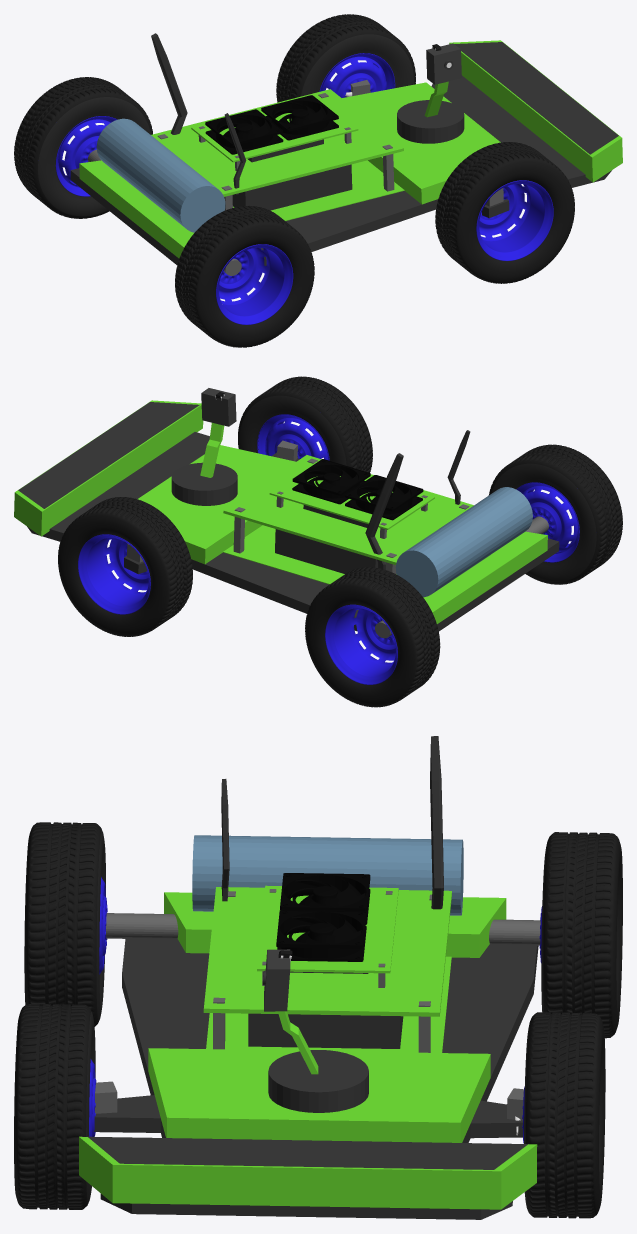
Rendered from car.glb.
3 renders of one model, top to bottom at view 1: azimuth 30°, elevation 25°; view 2: azimuth 150°, elevation 25°; view 3: azimuth 270°, elevation 25°, orthographic. The views are drawn at different scales.
Visible parts, largest first — view 1: Arctic P12 PWM 120x120x25mm, tire.004, tire.003, tire.002, tire.001, Cylinder.002, Plane.003; view 2: Arctic P12 PWM 120x120x25mm, tire.002, tire.001, tire.004, tire.003, Cylinder.002, Plane.003, Cube.020, Cylinder.006; view 3: Arctic P12 PWM 120x120x25mm, tire.001, tire.003, tire.002, tire.004, Cylinder.002, Cylinder.006, Plane.003, Cube.020.
Boxes of the visible parts, x1,y1,x2,y2 form: Arctic P12 PWM 120x120x25mm: (70, 33, 622, 265); tire.004: (175, 205, 314, 347); tire.003: (435, 142, 574, 283); tire.002: (14, 77, 152, 218); tire.001: (276, 14, 415, 102); Cylinder.002: (397, 100, 464, 143); Plane.003: (426, 43, 461, 84); Arctic P12 PWM 120x120x25mm: (14, 400, 559, 631); tire.002: (305, 567, 440, 707); tire.001: (58, 497, 192, 636); tire.004: (488, 444, 622, 584); tire.003: (238, 376, 372, 472); Cylinder.002: (171, 462, 237, 505); Plane.003: (201, 388, 236, 426); Cube.020: (200, 422, 224, 477); Cylinder.006: (375, 516, 548, 638); Arctic P12 PWM 120x120x25mm: (79, 736, 538, 1219); tire.001: (522, 1012, 605, 1218); tire.003: (14, 1003, 96, 1209); tire.002: (539, 832, 622, 1038); tire.004: (24, 822, 107, 1026); Cylinder.002: (268, 1050, 368, 1112); Cylinder.006: (106, 913, 540, 945); Plane.003: (262, 949, 292, 1011); Cube.020: (278, 1011, 318, 1074).
Bounding box in the file's own units: 1.11 × 0.4753 × 0.85.
